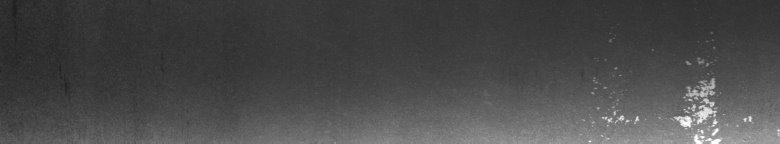kb: (580, 31, 764, 136)
